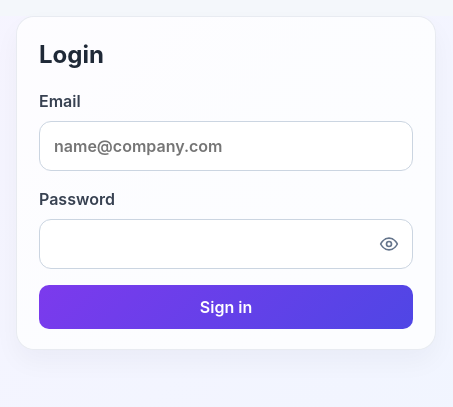
Scenario: Login page › disables the button while signing in, and clears the old error on the next try
Type "ops@northwind.com" into the field labelled "Email".
click(226, 146); type("ops@northwind.com")  # box top-left (39, 121), bottom-right (413, 171)
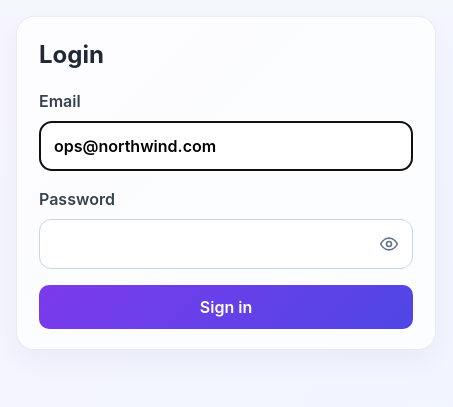
Type "wrong" into the password field labelled "Password".
click(226, 244); type("wrong")  # box top-left (39, 219), bottom-right (413, 269)
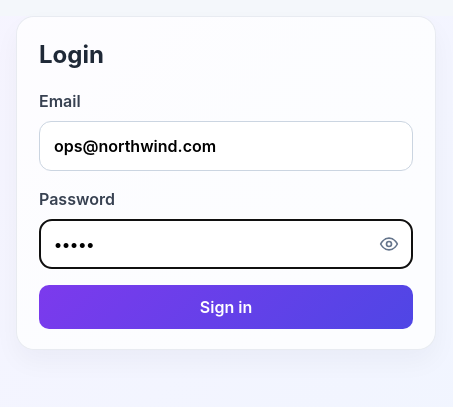
Click the button "Sign in".
click(226, 307)  # box top-left (39, 285), bottom-right (413, 329)
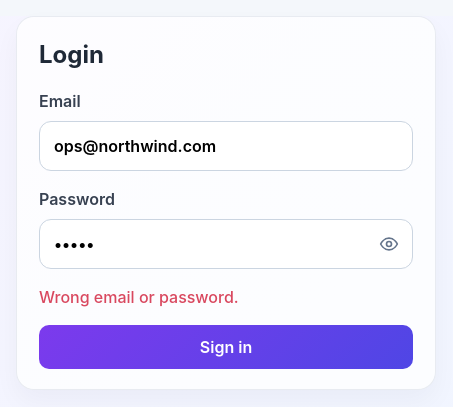
Check: the message reads "Wrong email or password.", box top-left (39, 287), bottom-right (239, 307)
Type "reaplift-dev-1" into the password field labelled "Password".
click(226, 244); type("reaplift-dev-1")  # box top-left (39, 219), bottom-right (413, 269)
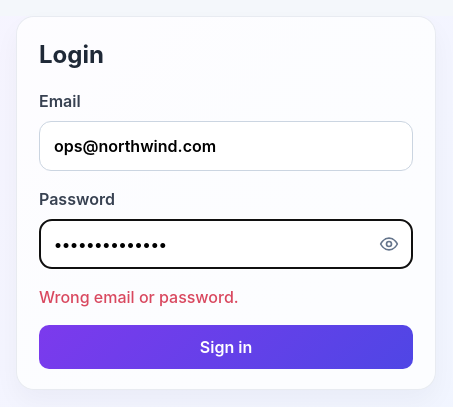
Click the button "Sign in".
click(226, 347)  # box top-left (39, 325), bottom-right (413, 369)
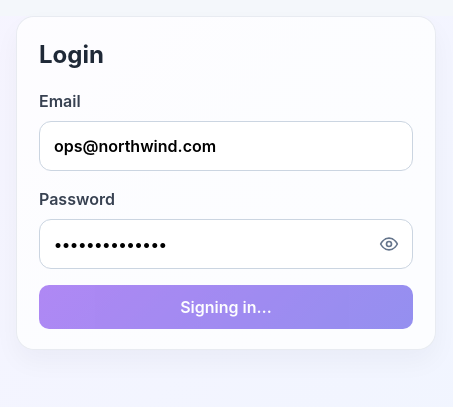
Check: the button "Signing in…" is disabled, box top-left (39, 285), bottom-right (413, 329)
Check: the message "Wrong email or password." is gone
